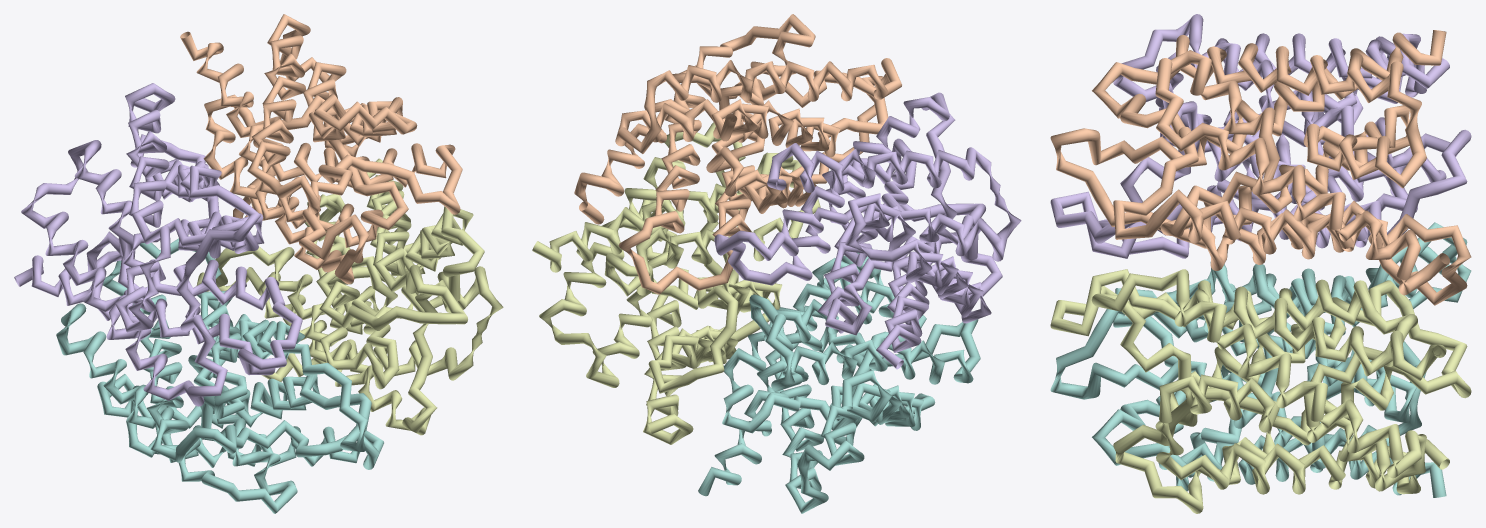
The model's file is 3gd8-backbone.glb.
3 views of the same model, side by side, from view 1: azimuth 30°, elevation 25°; view 2: azimuth 150°, elevation 25°; view 3: azimuth 270°, elevation 25° (orthographic). The views are drawn at different scales.
Visible parts, largest first — view 1: 3GD8 chain A-3, 3GD8 chain A, 3GD8 chain A-2, 3GD8 chain A-4; view 2: 3GD8 chain A-3, 3GD8 chain A, 3GD8 chain A-2, 3GD8 chain A-4; view 3: 3GD8 chain A, 3GD8 chain A-4, 3GD8 chain A-3, 3GD8 chain A-2.
Part boxes in pixels (x1=…): 3GD8 chain A-3: x1=14, y1=83, x2=302, y2=406; 3GD8 chain A: x1=180, y1=14, x2=462, y2=284; 3GD8 chain A-2: x1=56, y1=238, x2=383, y2=513; 3GD8 chain A-4: x1=196, y1=158, x2=503, y2=435; 3GD8 chain A-3: x1=714, y1=92, x2=1021, y2=369; 3GD8 chain A: x1=574, y1=14, x2=901, y2=294; 3GD8 chain A-2: x1=698, y1=248, x2=980, y2=513; 3GD8 chain A-4: x1=532, y1=122, x2=820, y2=444; 3GD8 chain A: x1=1050, y1=30, x2=1471, y2=305; 3GD8 chain A-4: x1=1050, y1=269, x2=1471, y2=513; 3GD8 chain A-3: x1=1050, y1=14, x2=1471, y2=258; 3GD8 chain A-2: x1=1050, y1=222, x2=1471, y2=497.
Size of the model in its own units: 2.46 by 2.46 by 1.95.
